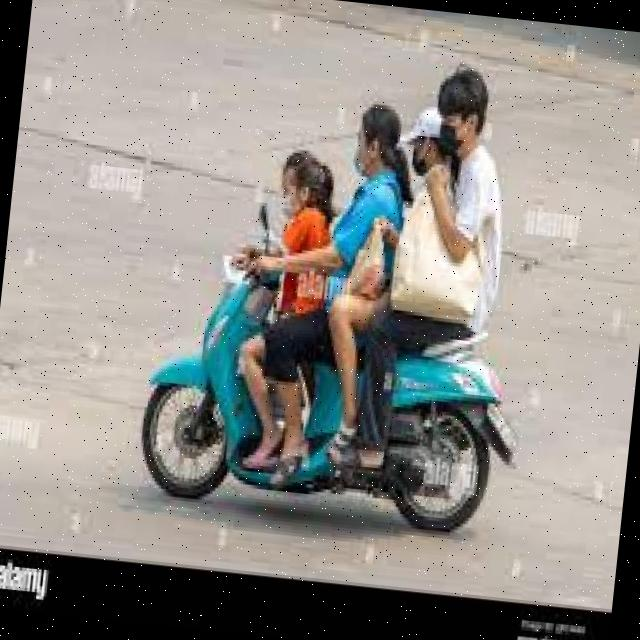No helmet: (340, 91, 416, 186)
Triple riding: (248, 37, 538, 426)
